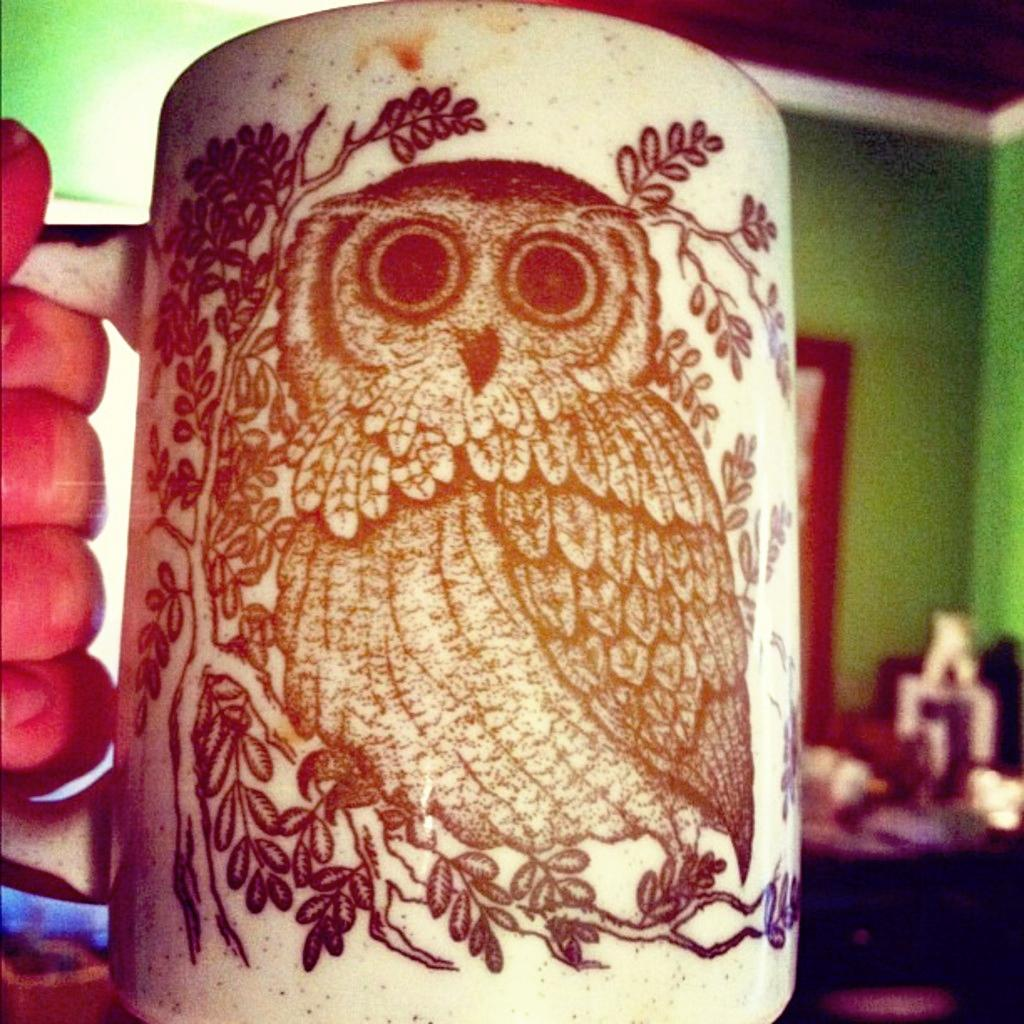Owl: (271, 157, 758, 887)
